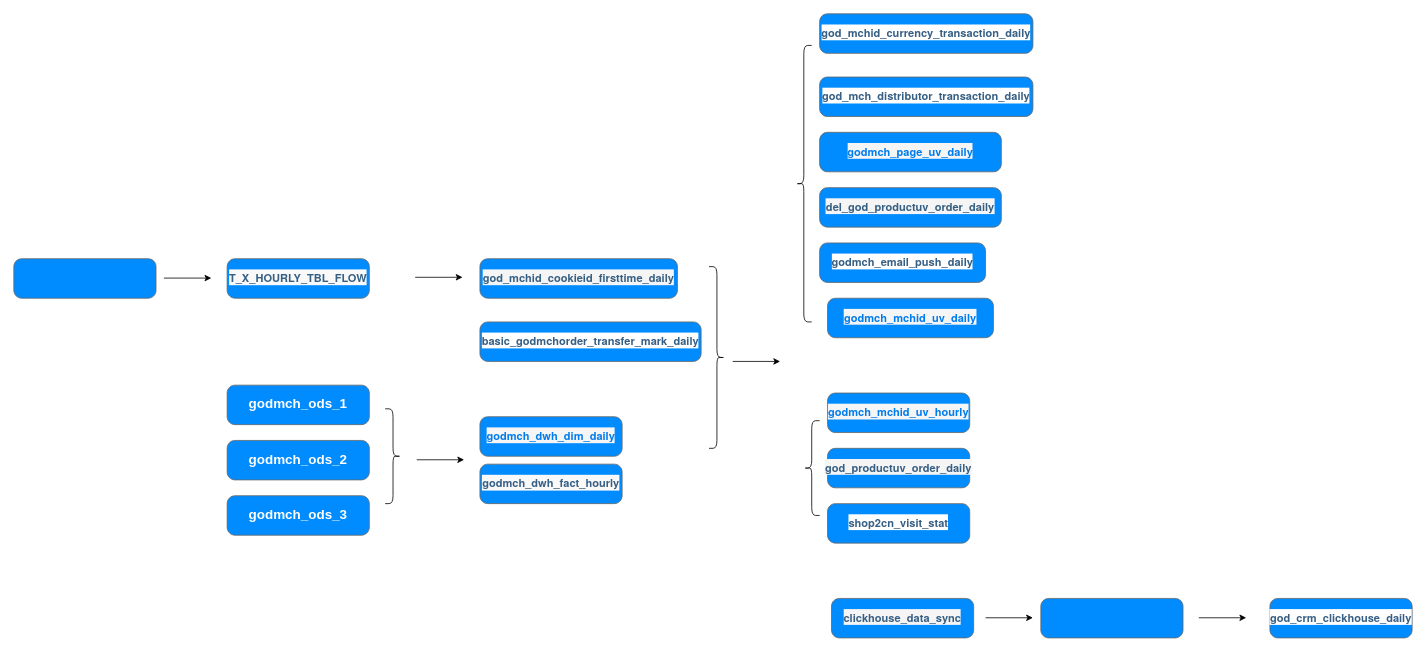
Image size: 1426x652. Some labels were removed from this diagram. The centre of each missing label's shape, as x and y in pixels:
"crm_message_push_daily" belongs at [1111,618].
"flume job" belongs at [84,278].
